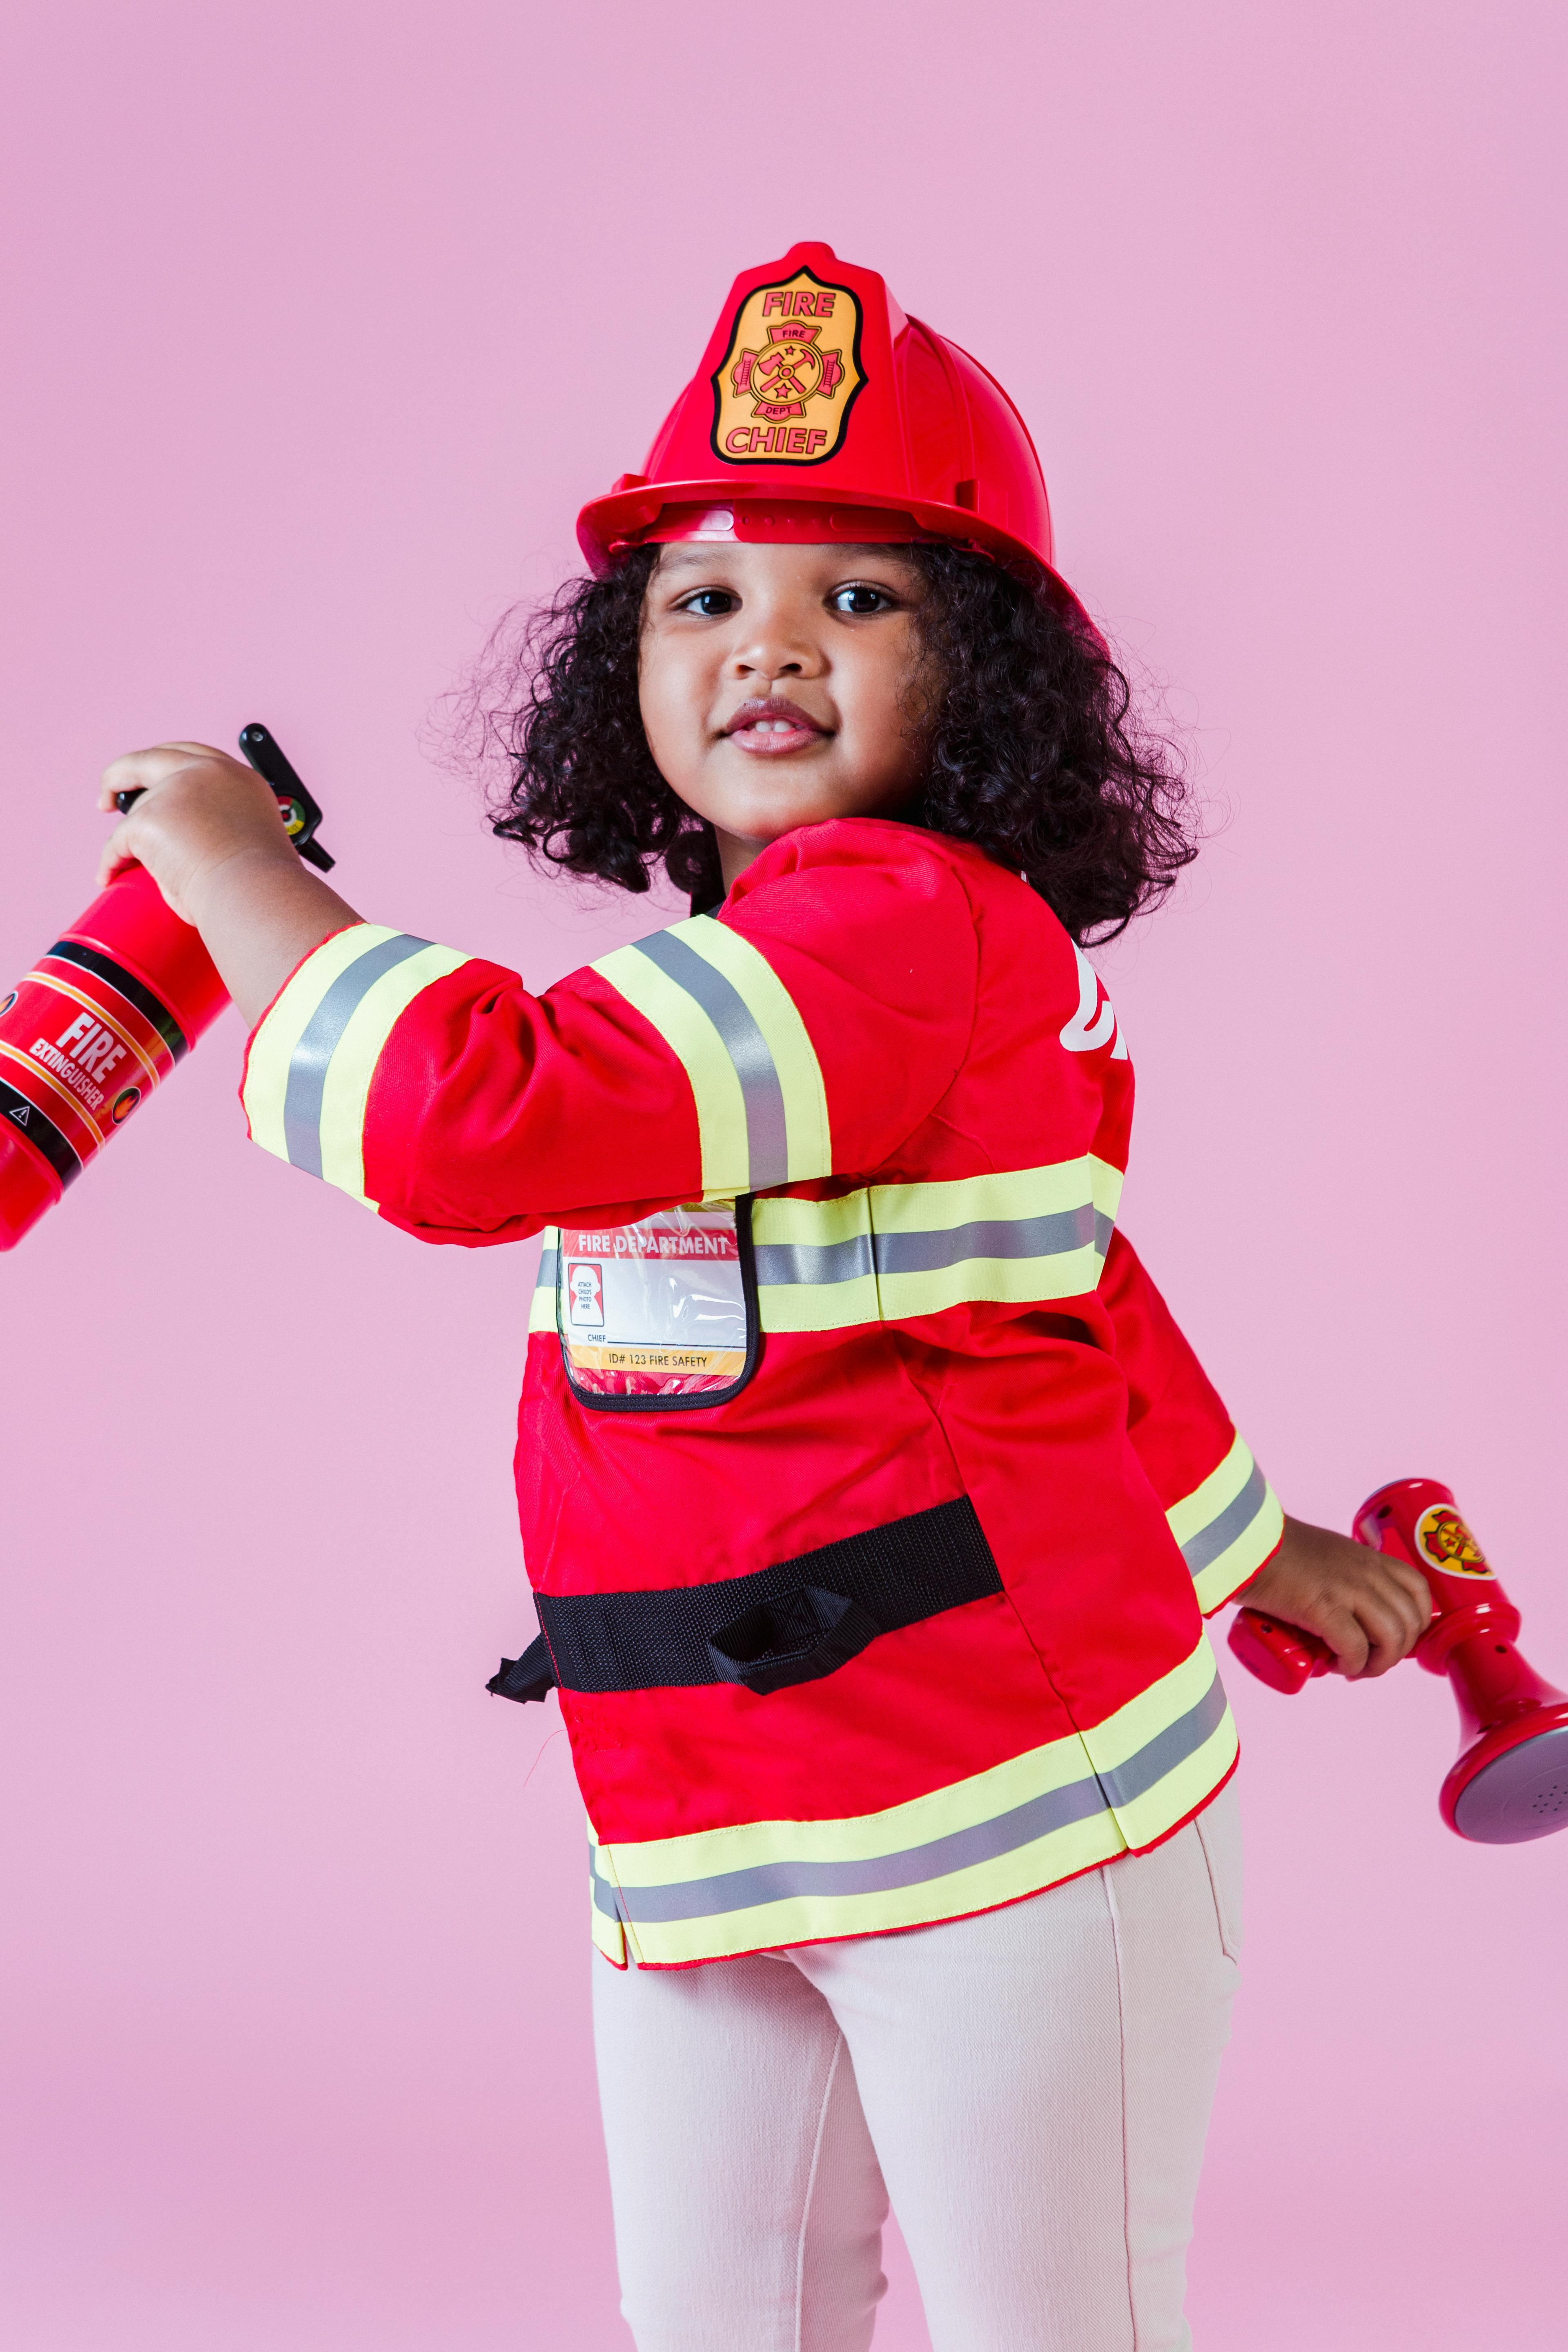extintor: (0, 717, 343, 1258)
